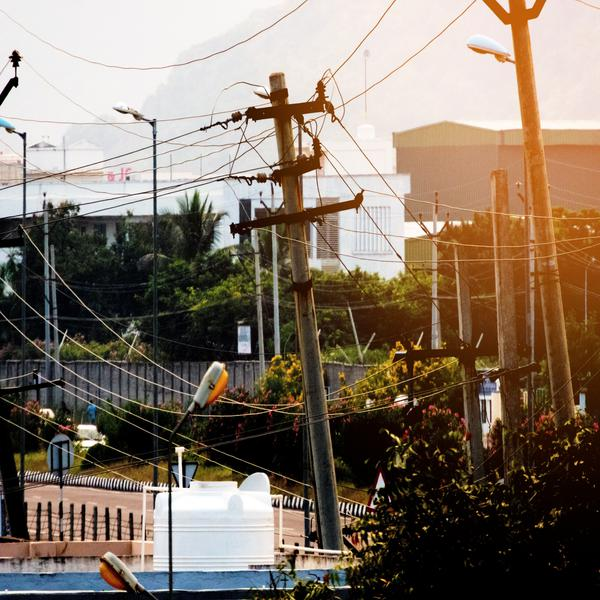utility_pole: (212, 63, 373, 248)
